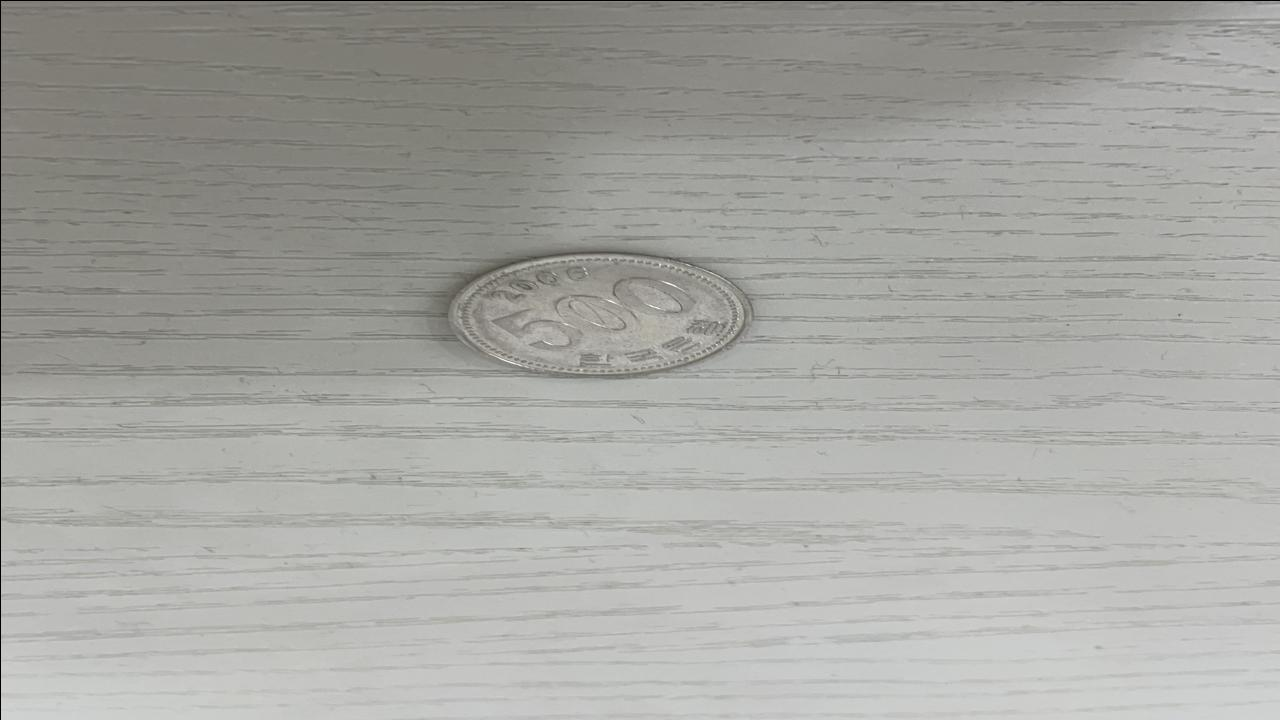coin: (447, 252, 755, 378)
